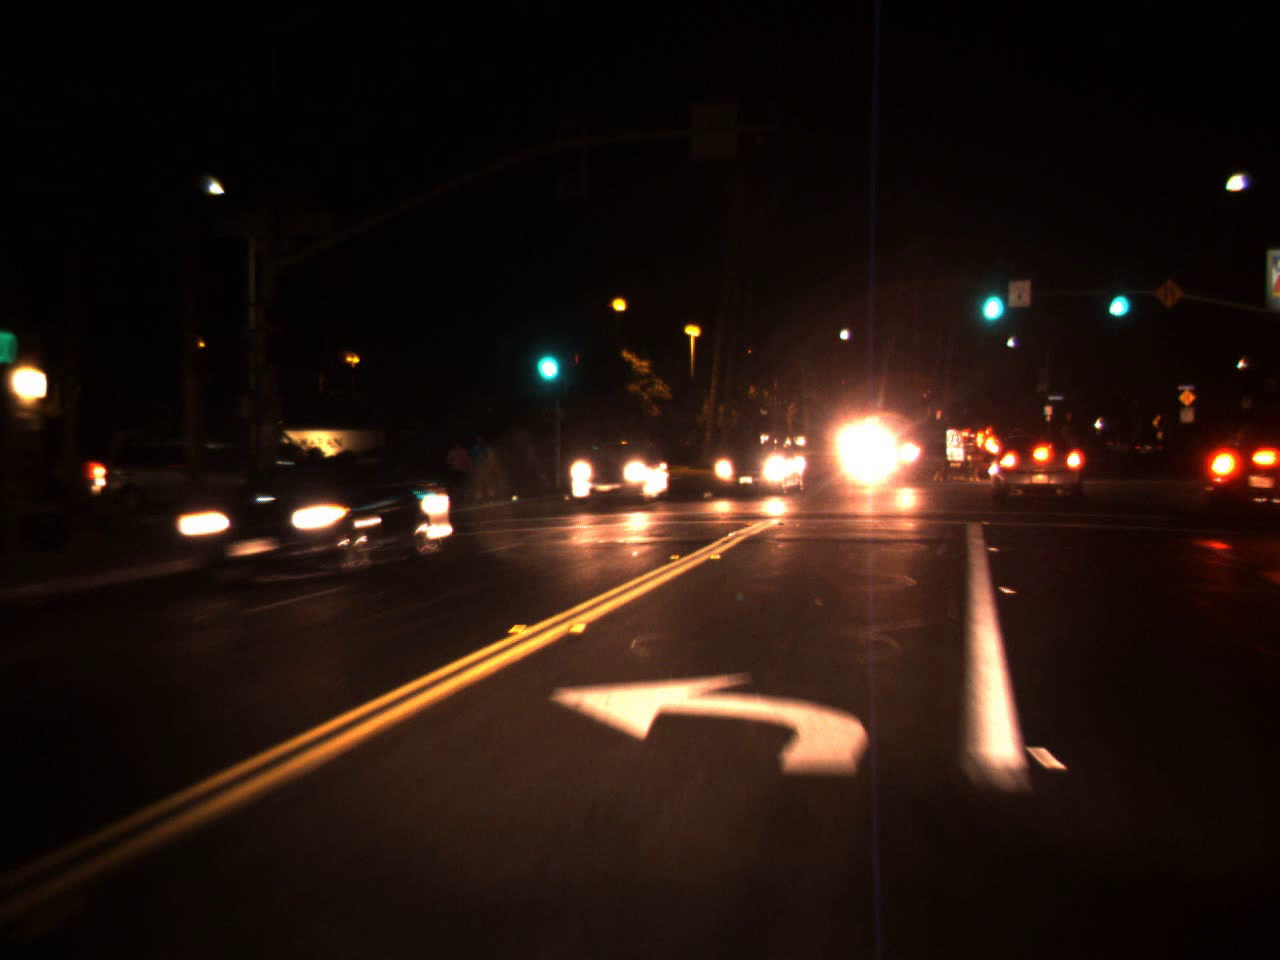go: (973, 262, 1009, 331), (529, 324, 563, 390), (1104, 270, 1131, 324)
